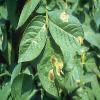Potato leaf late blight: (37, 37, 67, 99), (46, 9, 87, 54), (17, 12, 48, 66)
